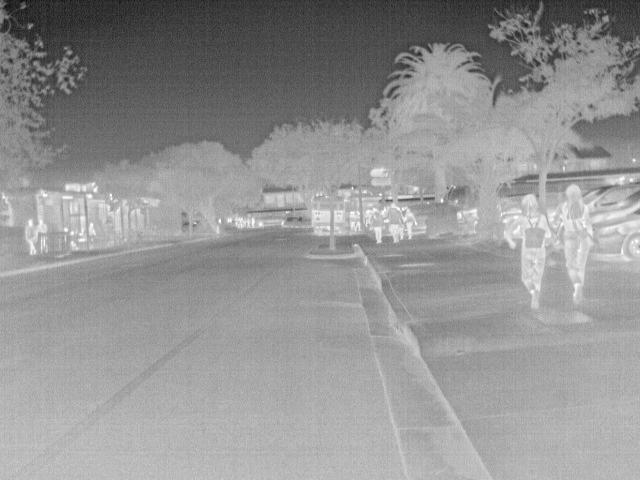car: (588, 207, 639, 264), (584, 182, 639, 215), (452, 208, 479, 234), (280, 214, 306, 228)
person: (504, 192, 553, 308), (556, 185, 590, 300), (383, 200, 405, 242), (368, 206, 385, 244), (25, 217, 38, 255), (402, 207, 417, 238), (32, 214, 49, 234), (351, 210, 364, 231), (346, 210, 357, 230), (85, 220, 98, 236), (76, 226, 89, 242)
